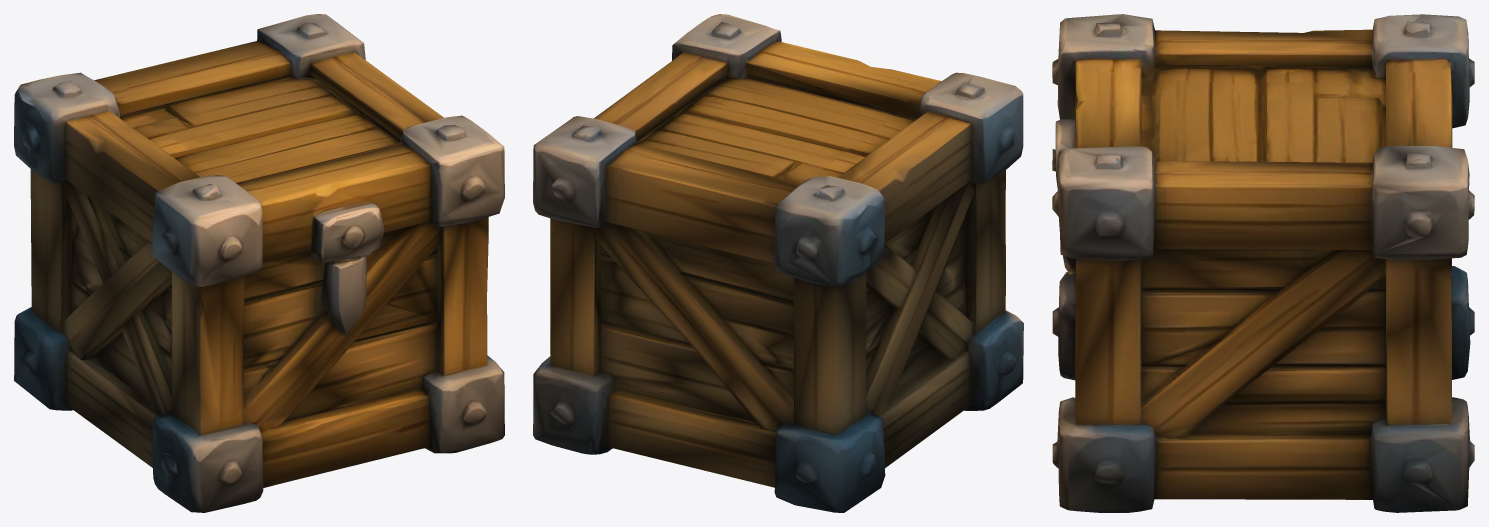
Rendered from crate.opt.glb.
3 views of the same model, side by side, from view 1: azimuth 30°, elevation 25°; view 2: azimuth 150°, elevation 25°; view 3: azimuth 270°, elevation 25° (orthographic). The views are drawn at different scales.
Parts seen in each view (by area): view 1: node_0; view 2: node_0; view 3: node_0.
Boxes of the visible parts, x1,y1,x2,y2 form: node_0: [14, 14, 504, 512]; node_0: [533, 14, 1023, 512]; node_0: [1052, 14, 1474, 512].
Size of the model in its own units: 0.7547 by 0.6897 by 0.7602.
1 material, 1 textured.
